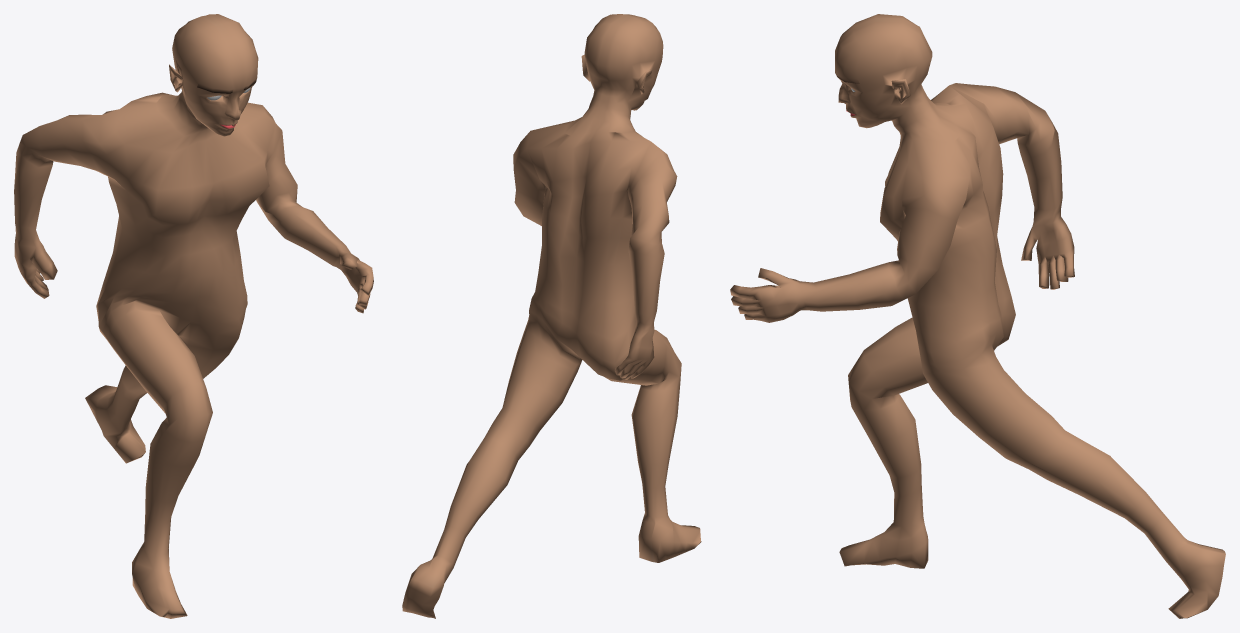
The model's file is human_running_2.fbx.
The picture shows the model from 3 angles, left to right: view 1: azimuth 30°, elevation 25°; view 2: azimuth 150°, elevation 25°; view 3: azimuth 270°, elevation 25°; orthographic projection. The views are drawn at different scales.
Parts seen in each view (by area): view 1: body; view 2: body; view 3: body.
Boxes of the visible parts, <box> form: body: <box>14,14,373,618</box>; body: <box>402,14,701,618</box>; body: <box>730,14,1225,618</box>.
Bounding box in the file's own units: 223 × 549 × 434.
